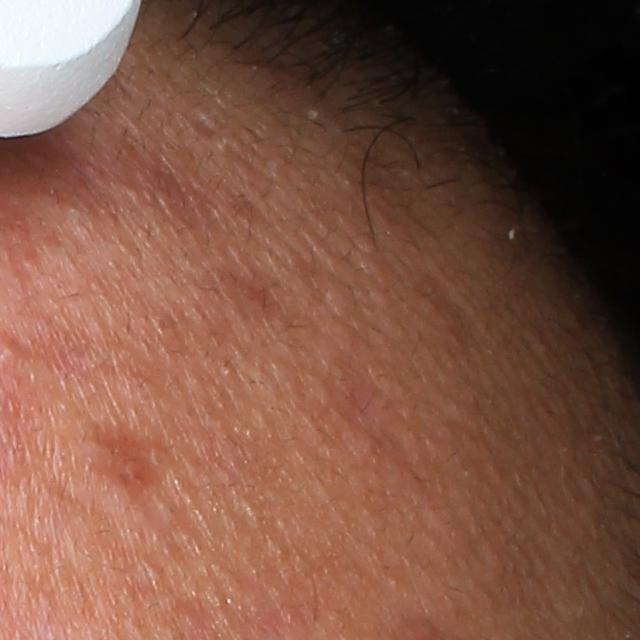atrophic_scar: (17, 129, 267, 231), (322, 346, 425, 492), (208, 262, 305, 329), (84, 421, 165, 501), (411, 262, 483, 351)
